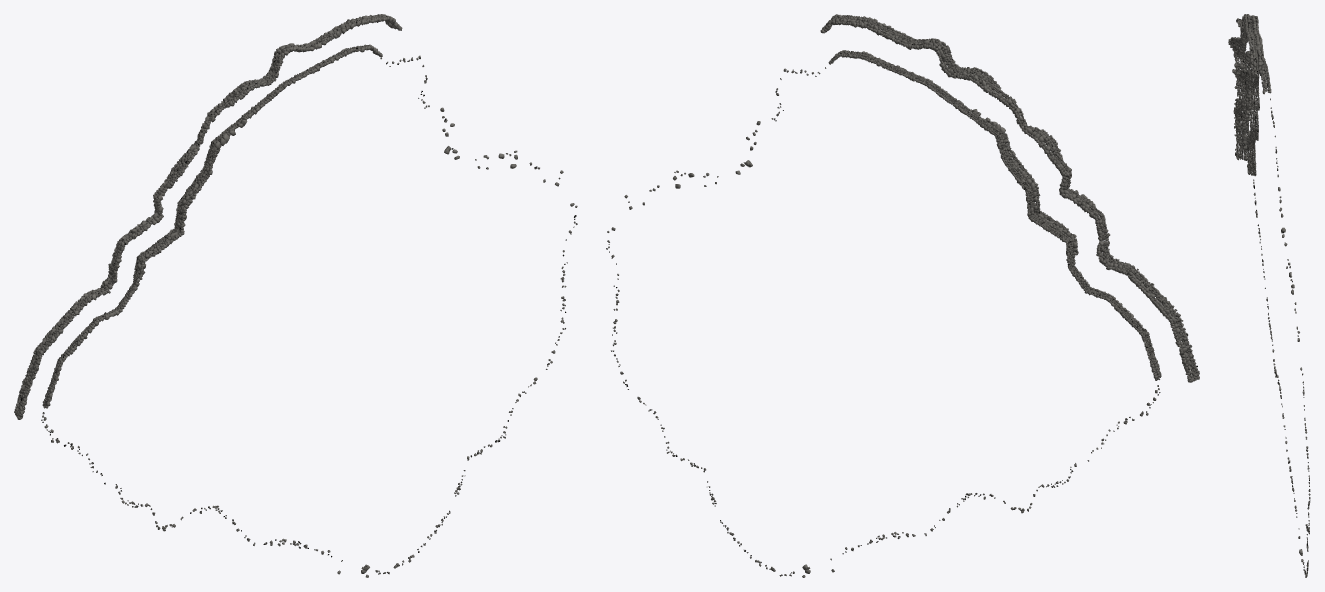
Rendered from edge_stones.obj.
3 views of the same model, side by side, from view 1: azimuth 30°, elevation 25°; view 2: azimuth 150°, elevation 25°; view 3: azimuth 270°, elevation 25° (orthographic). The views are drawn at different scales.
Parts seen in each view (by area): view 1: edge_stones.001; view 2: edge_stones.001; view 3: edge_stones.001.
Part boxes in pixels (<box>): edge_stones.001: <box>14,14,577,577</box>; edge_stones.001: <box>606,14,1199,577</box>; edge_stones.001: <box>1228,14,1310,577</box>.
Bounding box in the file's own units: 74.03 × 69.96 × 10.23.
Materials: 1 (1 with a texture image).
